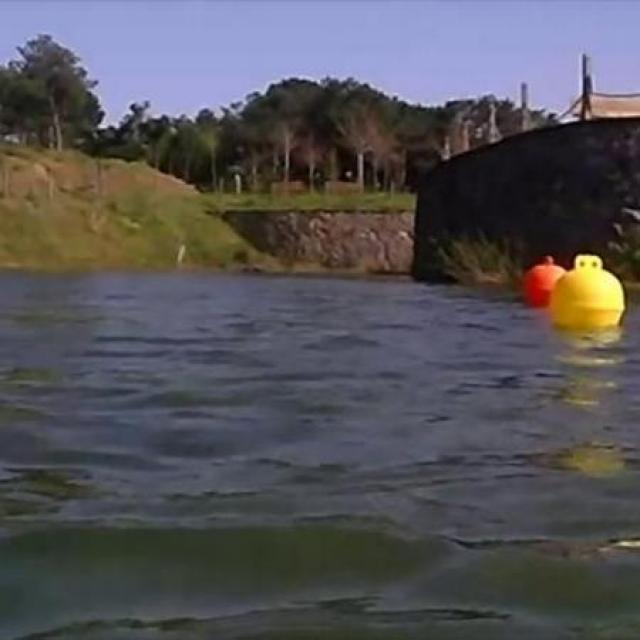buoy: (552, 255, 626, 328), (521, 256, 561, 310)
